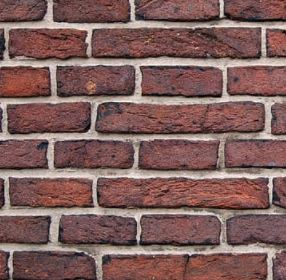brick: (98, 176, 269, 211), (91, 26, 262, 60), (95, 102, 266, 134), (98, 254, 267, 280), (6, 100, 93, 135), (54, 64, 137, 98), (141, 64, 224, 98), (137, 139, 223, 171), (8, 178, 95, 209), (7, 27, 89, 59), (52, 139, 135, 170), (141, 215, 222, 244), (11, 251, 93, 279), (56, 216, 139, 243), (133, 1, 222, 23), (225, 139, 286, 169), (227, 65, 286, 96), (53, 1, 132, 23), (224, 216, 286, 243), (1, 65, 51, 98), (1, 139, 50, 169), (224, 1, 285, 22), (1, 218, 52, 242), (2, 1, 49, 22), (265, 27, 286, 56), (269, 103, 286, 133), (272, 177, 286, 205), (271, 256, 286, 280)
